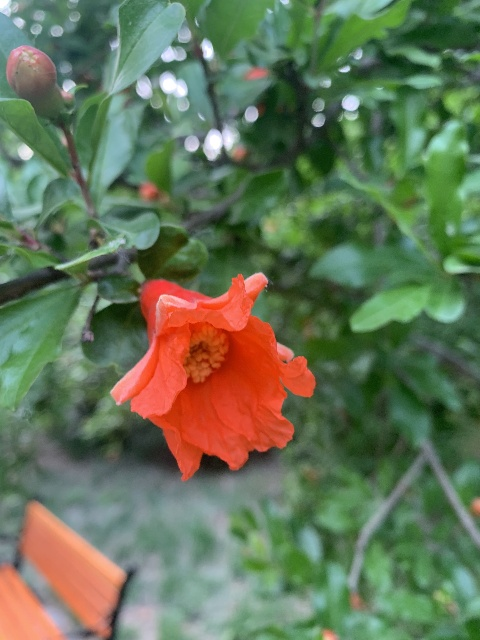bud: (6, 46, 62, 109)
flower: (110, 270, 315, 481)
